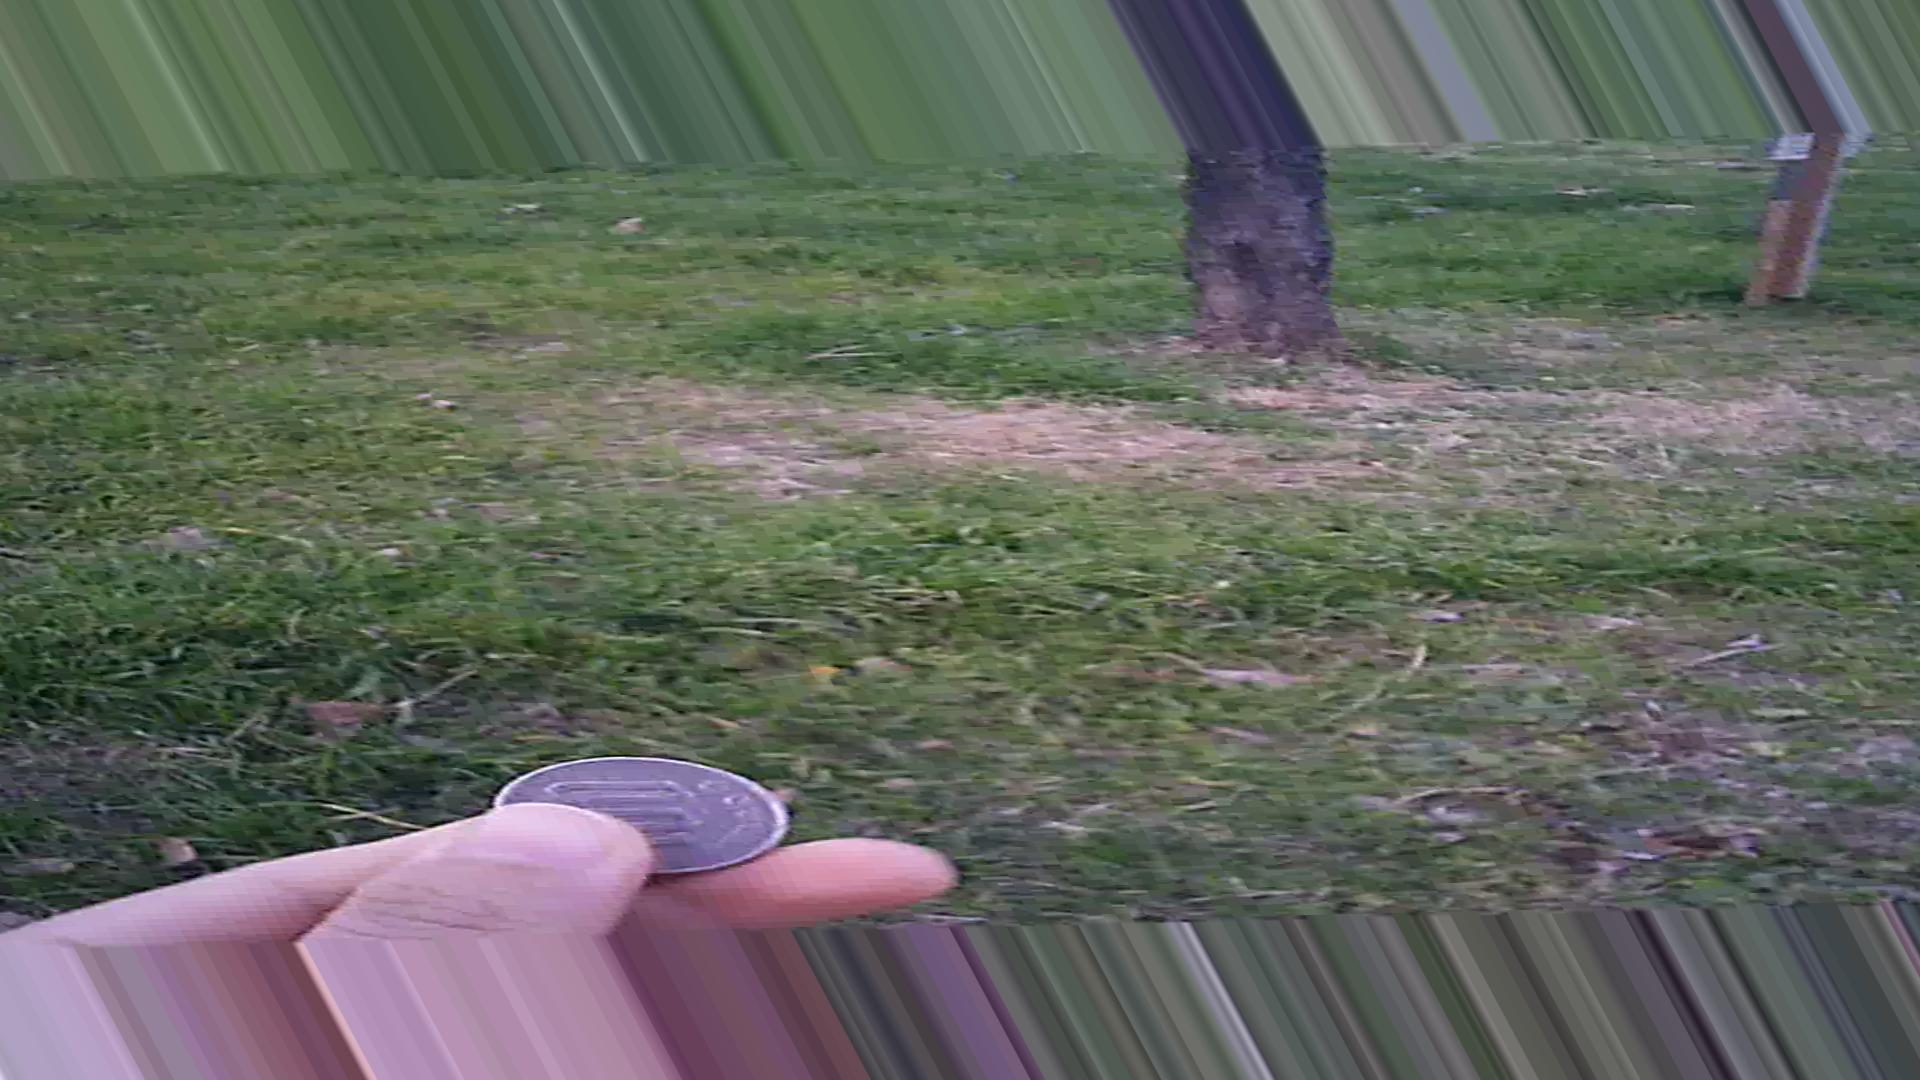100 Yen: (487, 742, 777, 880)
